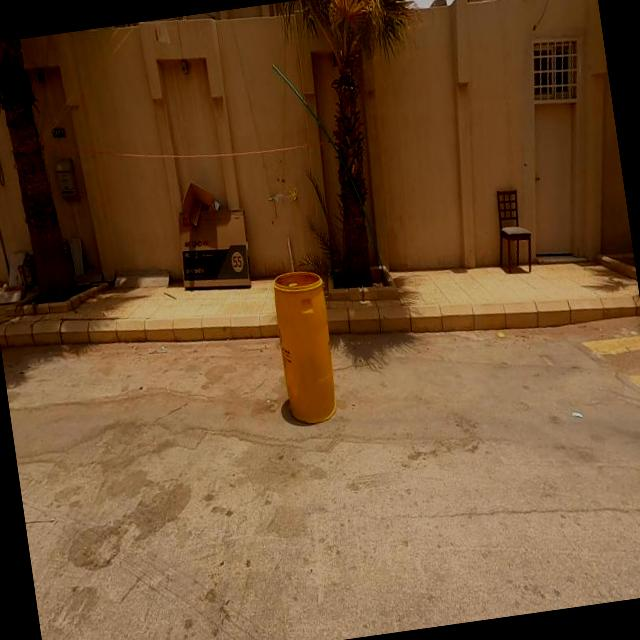debris: (103, 78, 324, 390), (0, 202, 82, 331)
